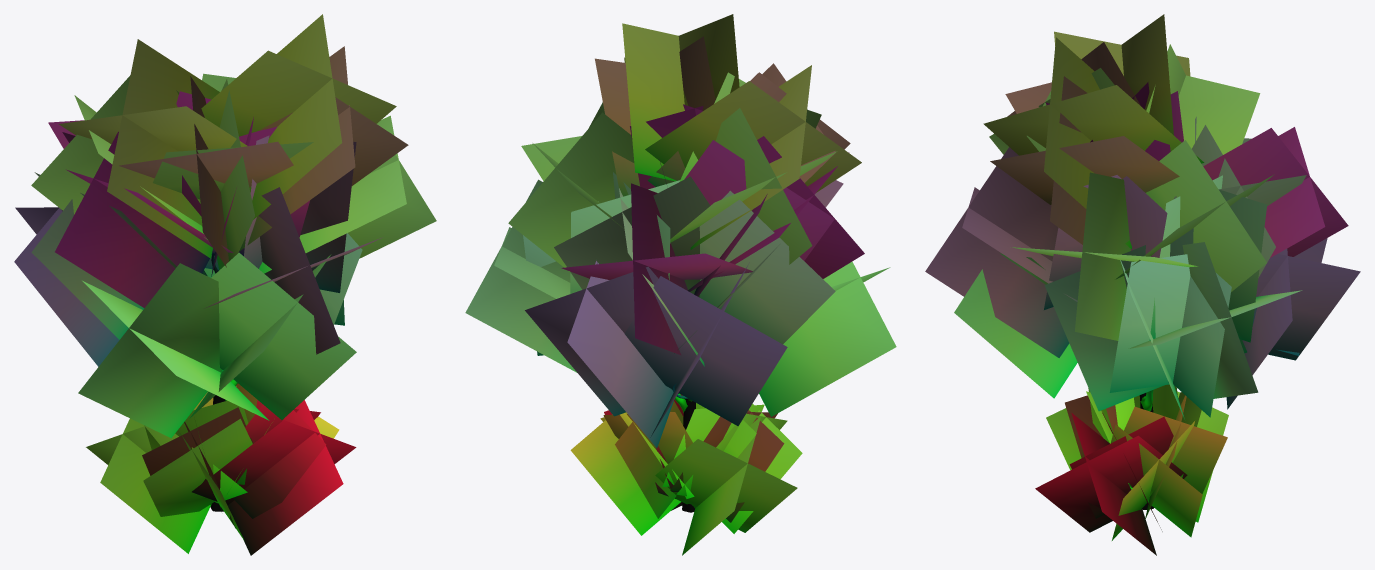
File: URP_P12_Tree_1_LOD_1.fbx
3 views of the same model, side by side, from view 1: azimuth 30°, elevation 25°; view 2: azimuth 150°, elevation 25°; view 3: azimuth 270°, elevation 25° (orthographic). The views are drawn at different scales.
Parts seen in each view (by area): view 1: Tree_1_LOD_1; view 2: Tree_1_LOD_1; view 3: Tree_1_LOD_1.
Boxes of the visible parts, x1,y1,x2,y2 form: Tree_1_LOD_1: (14,14,436,555); Tree_1_LOD_1: (465,14,896,555); Tree_1_LOD_1: (925,14,1360,555).
Size of the model in its own units: 170 by 231 by 184.
